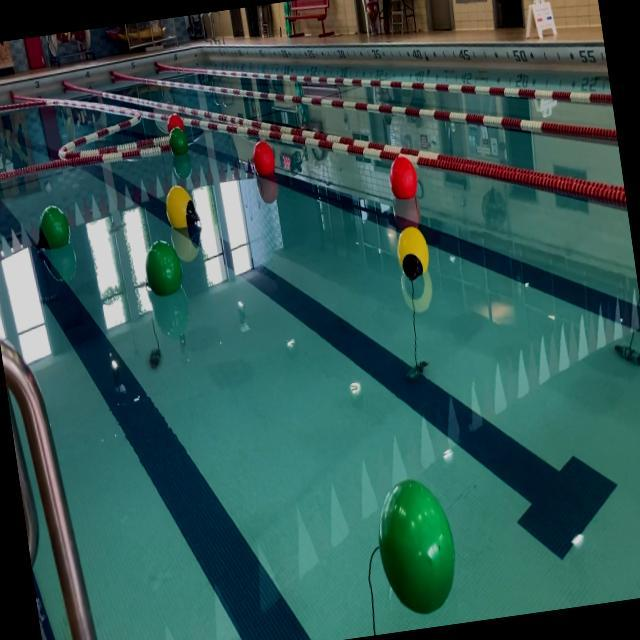buoy: (370, 471, 462, 622), (140, 237, 184, 298), (396, 224, 432, 283), (32, 203, 72, 254), (163, 184, 200, 232), (388, 154, 421, 204), (248, 140, 278, 181), (168, 128, 190, 158), (166, 110, 186, 132)
